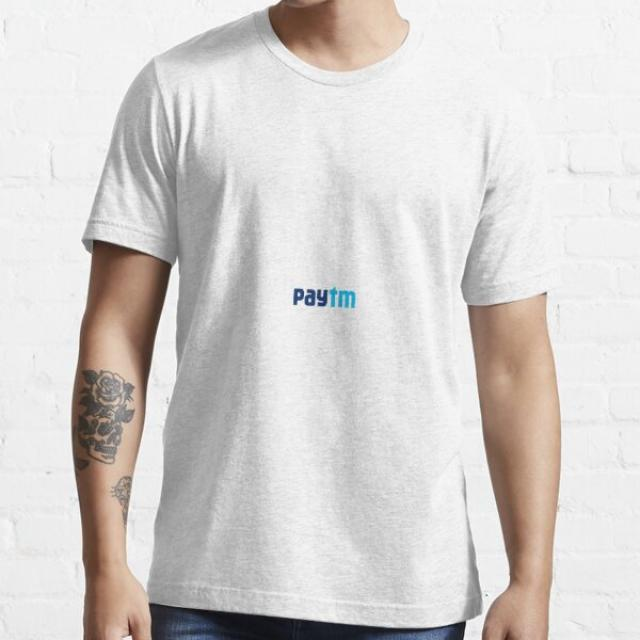fully_visible: (286, 276, 365, 321)
